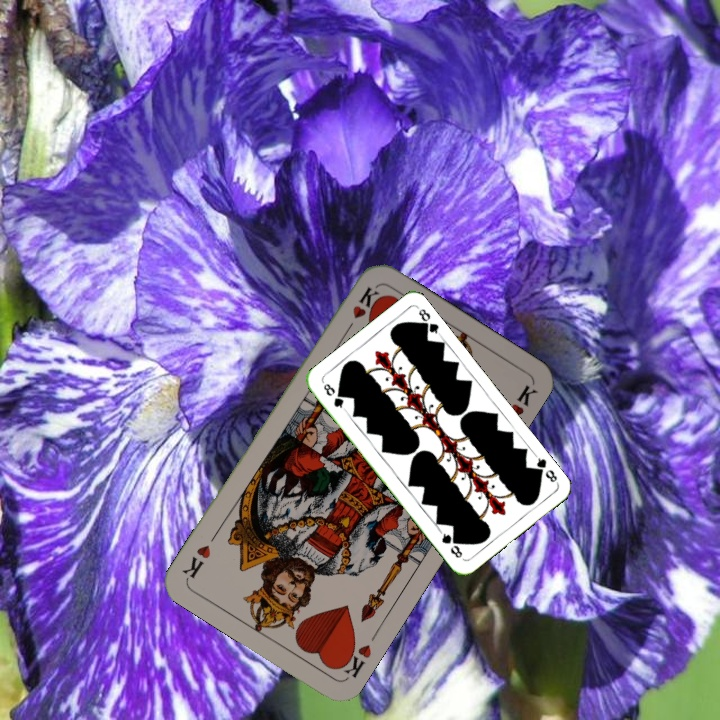G8: (530, 451, 560, 485), (319, 379, 348, 413)
HK: (341, 283, 382, 337), (334, 637, 375, 681)
